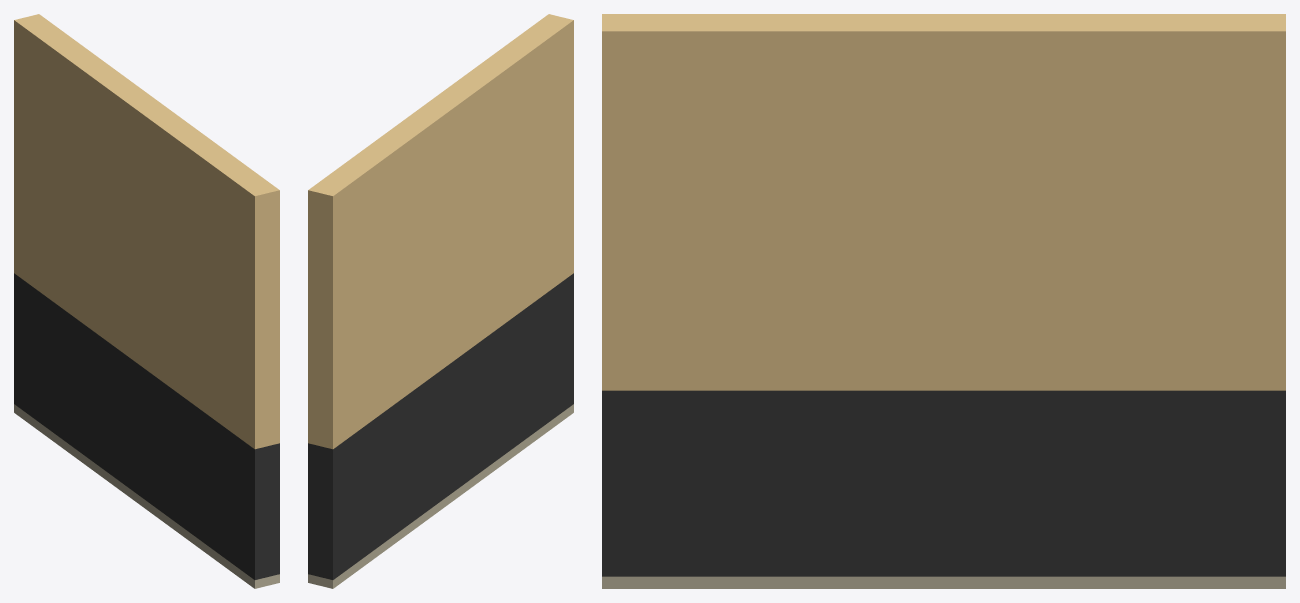
File: CorridorWall-0.obj
3 views of the same model, side by side, from view 1: azimuth 30°, elevation 25°; view 2: azimuth 150°, elevation 25°; view 3: azimuth 270°, elevation 25° (orthographic). The views are drawn at different scales.
Size of the model in its own units: 0.3 by 4.5 by 5.
1 material, 1 textured.
